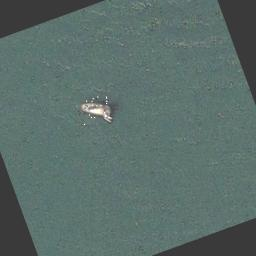boat: (75, 94, 114, 126)
